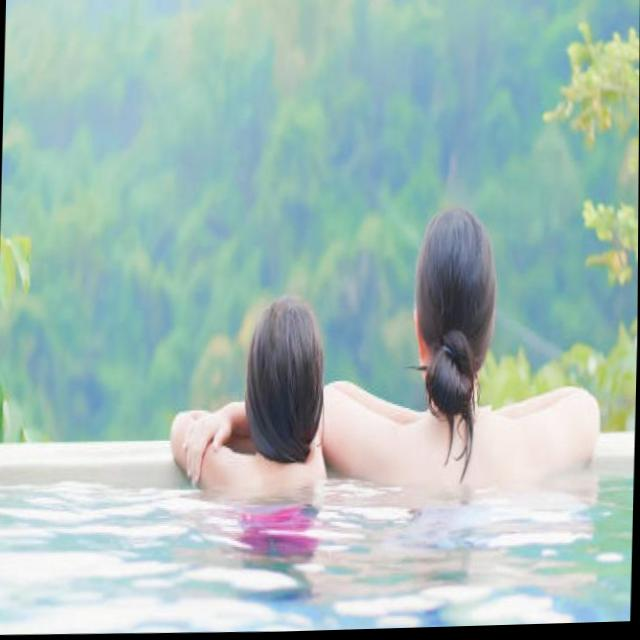no helmet: (403, 205, 504, 415), (235, 288, 335, 469)
